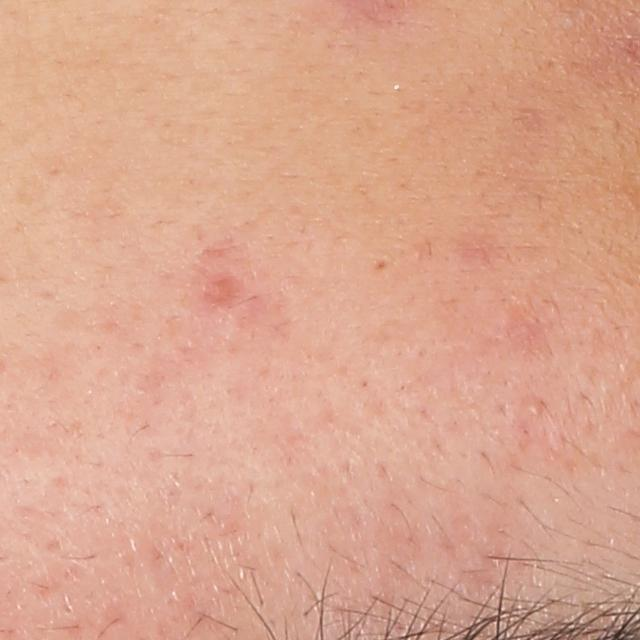comedo: (371, 253, 392, 272), (528, 398, 544, 415)
